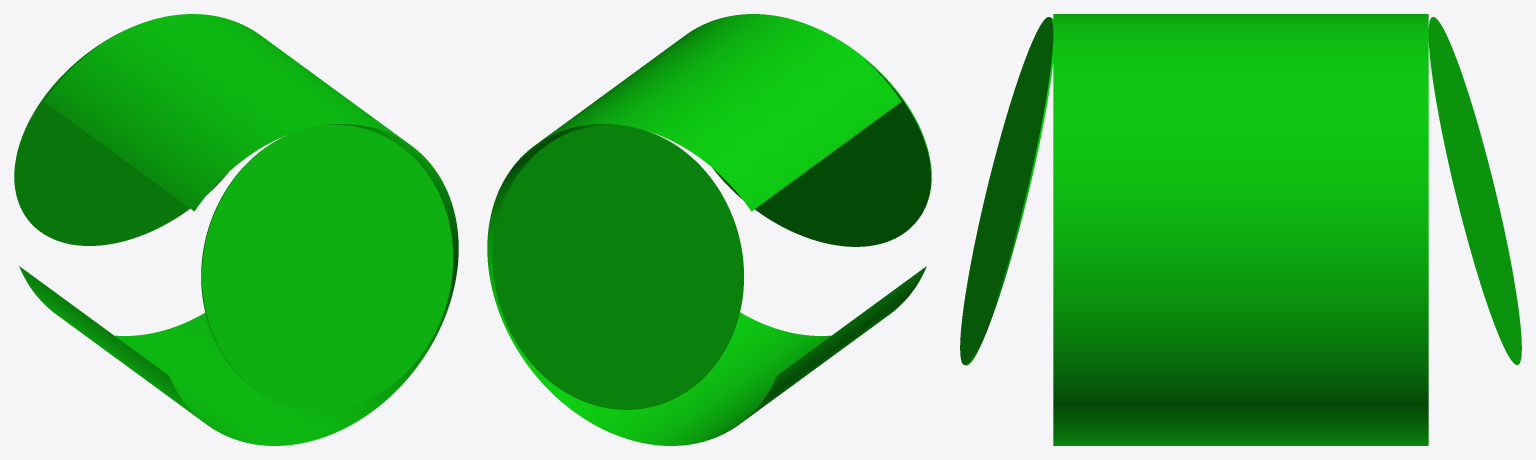
File: plane bend74.obj
3 views of the same model, side by side, from view 1: azimuth 30°, elevation 25°; view 2: azimuth 150°, elevation 25°; view 3: azimuth 270°, elevation 25° (orthographic). The views are drawn at different scales.
Parts seen in each view (by area): view 1: Circle, Plane, Circle.001; view 2: Circle.001, Plane, Circle; view 3: Plane, Circle, Circle.001.
Part boxes in pixels (<box>): Circle: <box>201,124,453,409</box>; Plane: <box>19,14,458,445</box>; Circle.001: <box>14,28,228,245</box>; Circle.001: <box>492,125,743,409</box>; Plane: <box>487,14,926,445</box>; Circle: <box>712,28,931,246</box>; Plane: <box>1053,14,1428,445</box>; Circle: <box>960,17,1053,365</box>; Circle.001: <box>1428,17,1521,364</box>.
Size of the model in its own units: 2.22 by 2.3 by 2.99.
